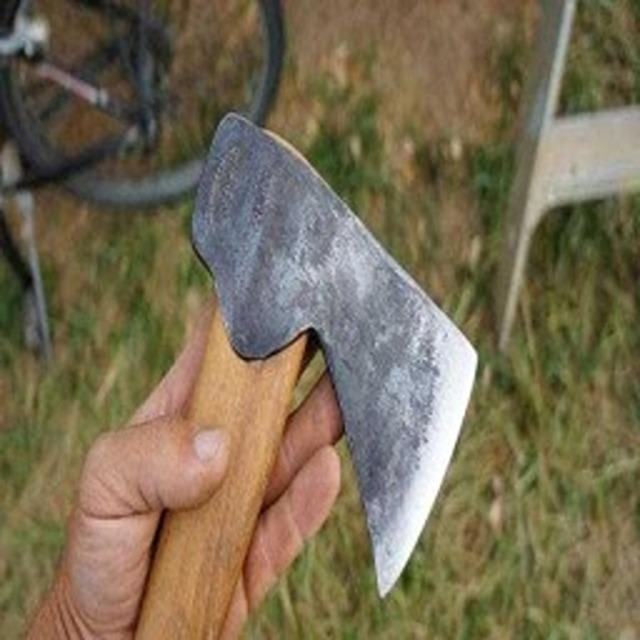ax: (120, 109, 490, 638)
